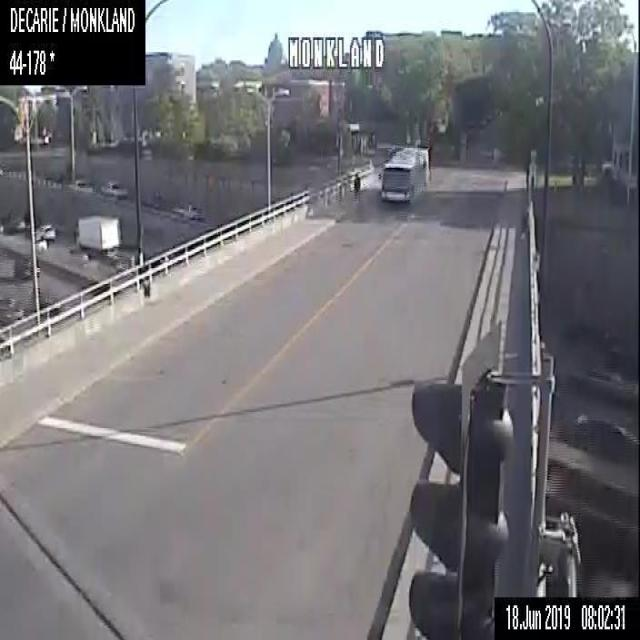bus: (379, 142, 429, 202)
pedestrian: (352, 171, 361, 200)
vehicle: (560, 414, 637, 462), (72, 211, 121, 253), (99, 177, 131, 199), (172, 198, 204, 218), (0, 296, 22, 324), (12, 248, 31, 277), (0, 215, 30, 233), (35, 219, 57, 237), (66, 177, 94, 191), (111, 254, 130, 274)
